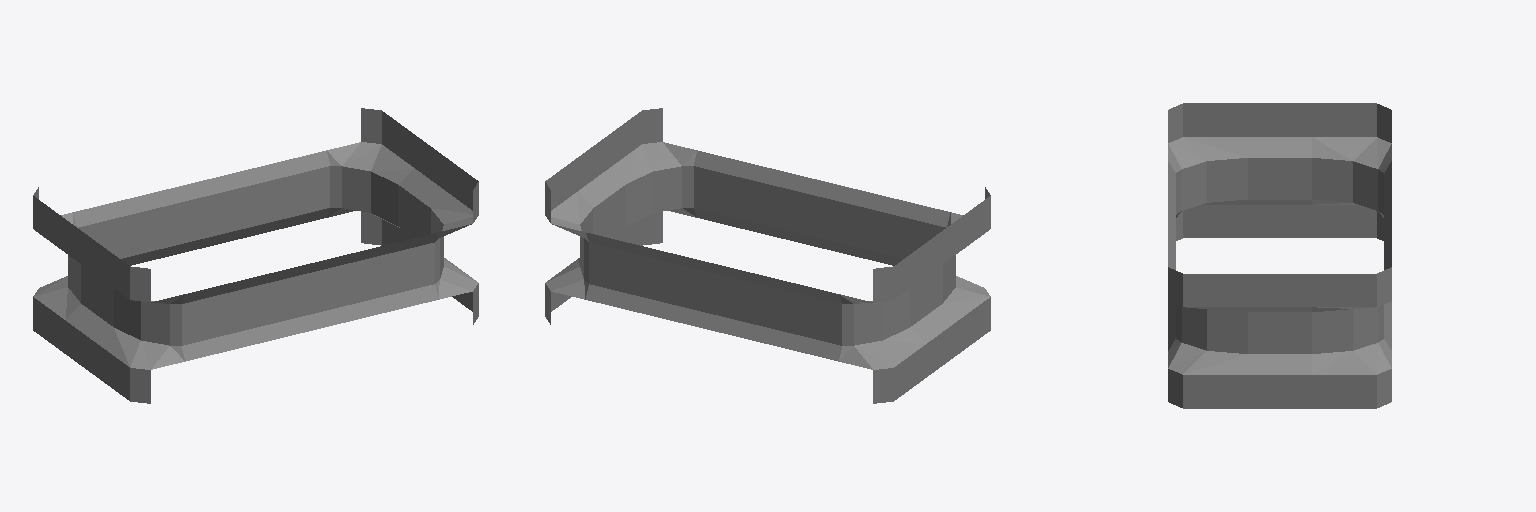
File: Spacer.obj
3 views of the same model, side by side, from view 1: azimuth 30°, elevation 25°; view 2: azimuth 150°, elevation 25°; view 3: azimuth 270°, elevation 25° (orthographic).
Visible parts, largest first — view 1: SM_MidSpan_Cooridor_E; view 2: SM_MidSpan_Cooridor_E; view 3: SM_MidSpan_Cooridor_E.
Part boxes in pixels (x1,y1,x2,y2): SM_MidSpan_Cooridor_E: (33,108,478,403); SM_MidSpan_Cooridor_E: (545,108,990,403); SM_MidSpan_Cooridor_E: (1168,103,1391,408).
Size of the model in its own units: 213 by 78.74 by 118.